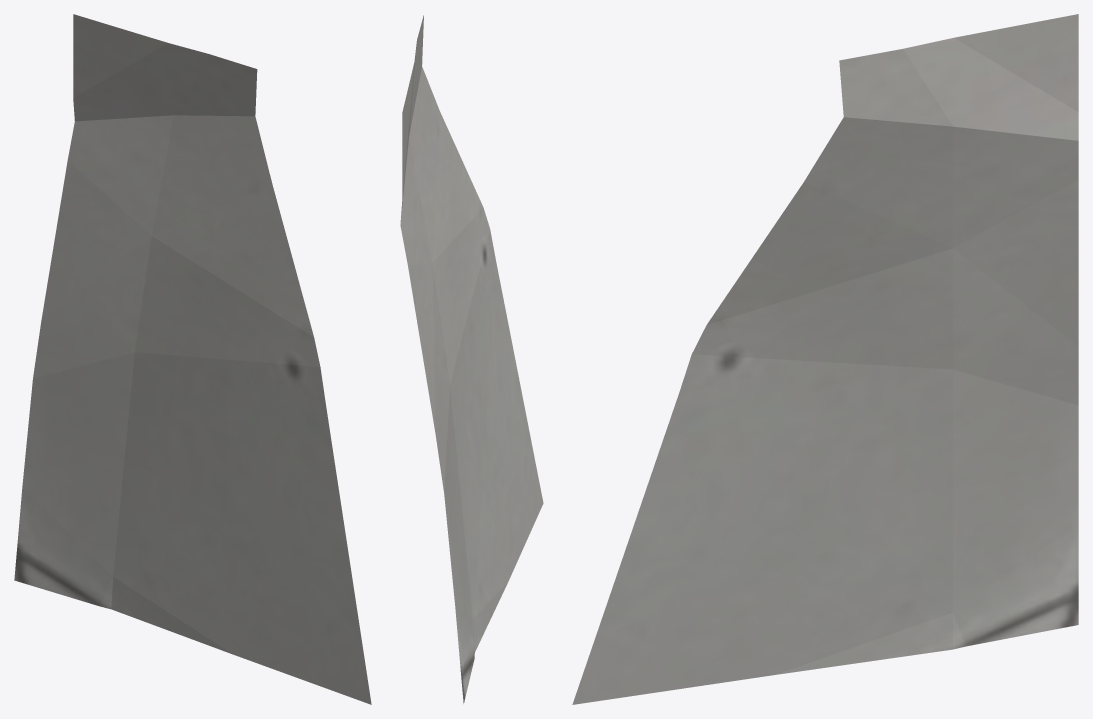
3 renders of one model, left to right at view 1: azimuth 30°, elevation 25°; view 2: azimuth 150°, elevation 25°; view 3: azimuth 270°, elevation 25°, orthographic. The views are drawn at different scales.
Size of the model in its own units: 0.2229 by 0.8373 by 0.5962.
2 materials, 2 textured.
